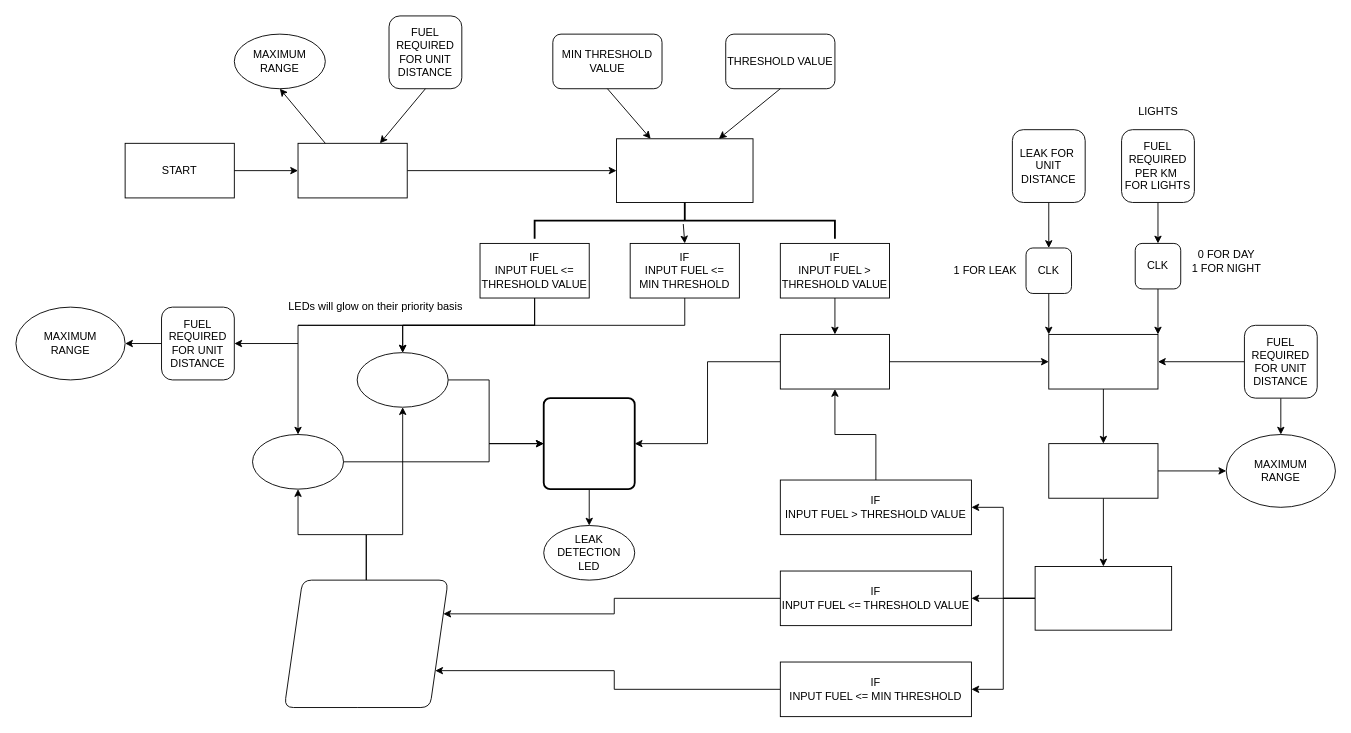
Some shapes in this 1351 by 733 pixel diagram are drawn without their labels. The shapes that lost their labels are listed below. From the top down, each one's centre as x and y in pixels, then its label:
the point at 352,170: TAKE FUEL AS INPUT
the point at 684,170: COMPARE WITH THRESHOLD VALUE
the point at 402,379: LED 1
the point at 834,361: TAKE DISTANCE AS INPUT
the point at 1103,361: FUEL CONSUMED
the point at 298,461: LED 2
the point at 588,443: leak detection
the point at 1103,470: REMAINING FUEL
the point at 1103,598: COMPARE WITH THRESHOLD AND MIN THRESHOLD VALUES
the point at 365,643: 2 INPUT PRIORITY ENCODER different lights will glow based on the fuel level
